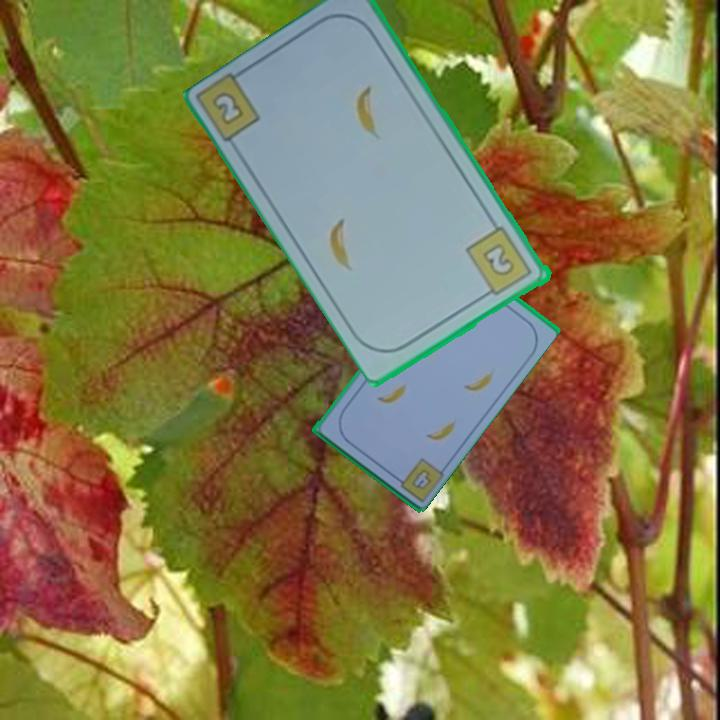2b: (463, 223, 536, 301), (209, 88, 247, 129)
4b: (389, 453, 446, 504)
